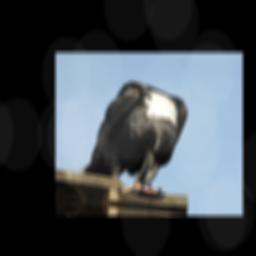Crow: (78, 74, 191, 200)
